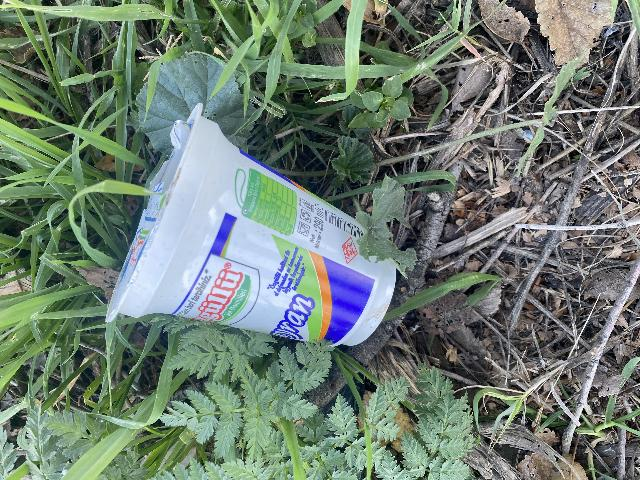Organik: (537, 5, 614, 75)
Plastik: (106, 125, 394, 354)
